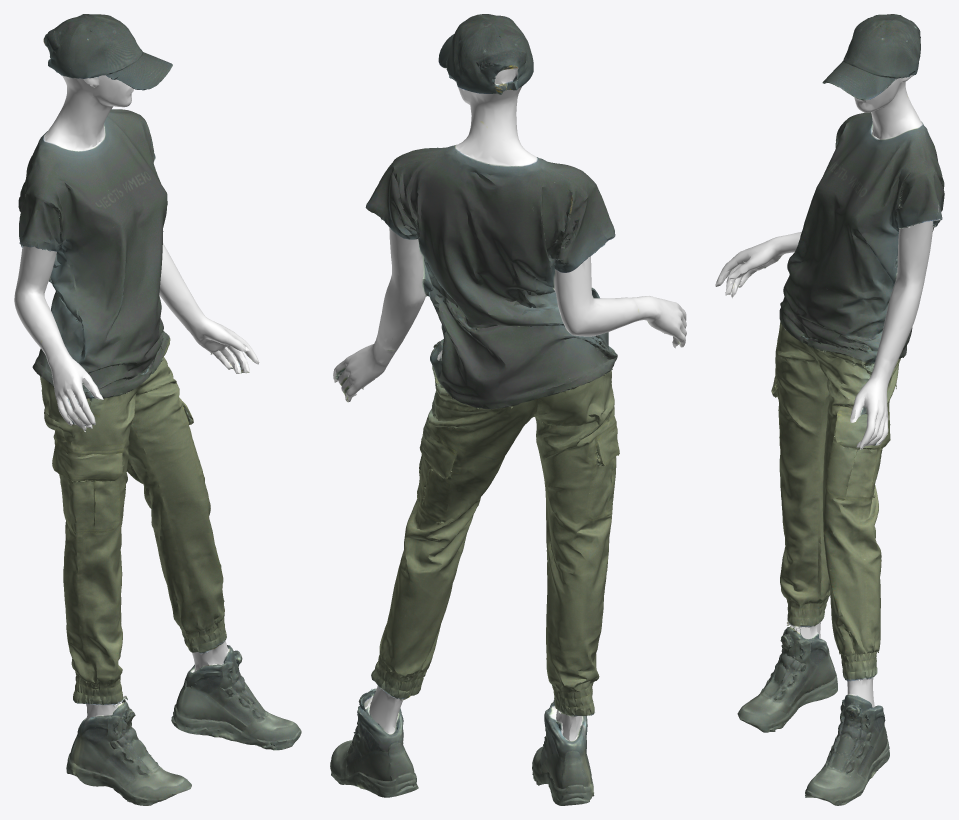
The model's file is BlackWoman.fbx.
The picture shows the model from 3 angles, left to right: view 1: azimuth 30°, elevation 25°; view 2: azimuth 150°, elevation 25°; view 3: azimuth 270°, elevation 25°; orthographic projection. The views are drawn at different scales.
Parts seen in each view (by area): view 1: zhen 4erny; view 2: zhen 4erny; view 3: zhen 4erny.
Part boxes in pixels (x1,y1,x2,y2): zhen 4erny: [14, 14, 301, 805]; zhen 4erny: [330, 14, 686, 805]; zhen 4erny: [715, 14, 944, 805].
Size of the model in its own units: 71.8 by 183 by 53.51.
